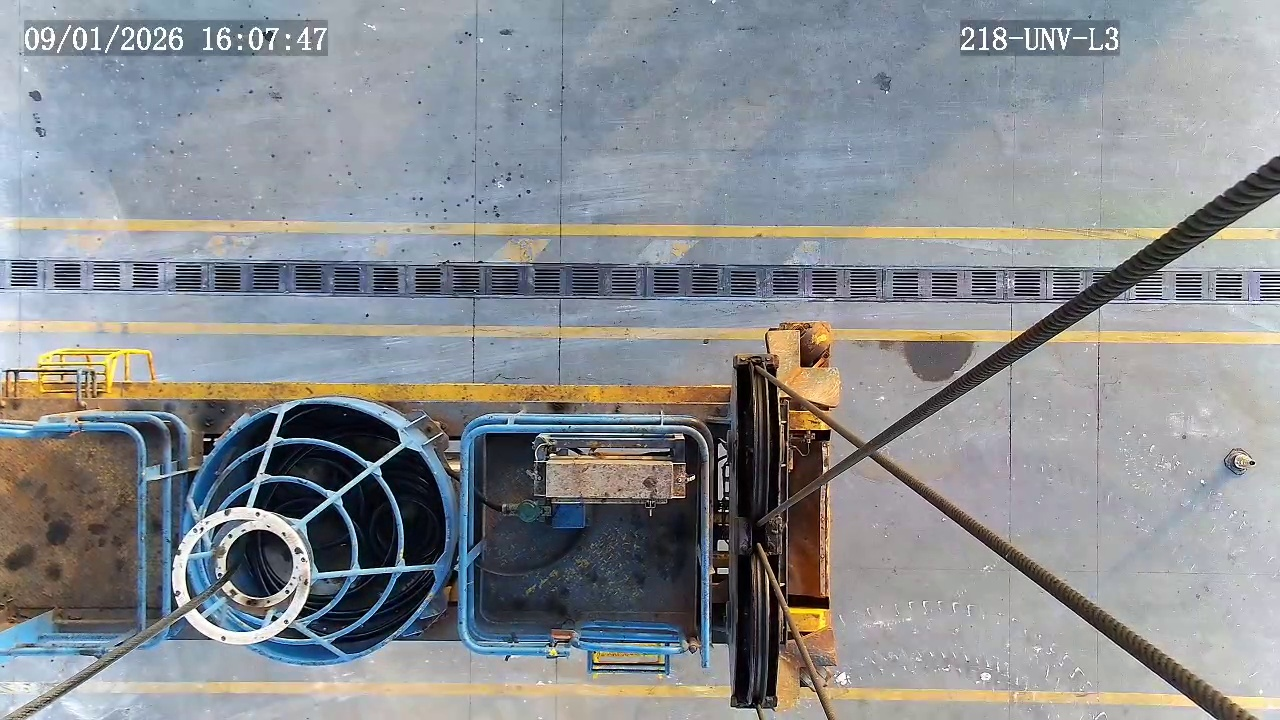right: (181, 398, 449, 665)
